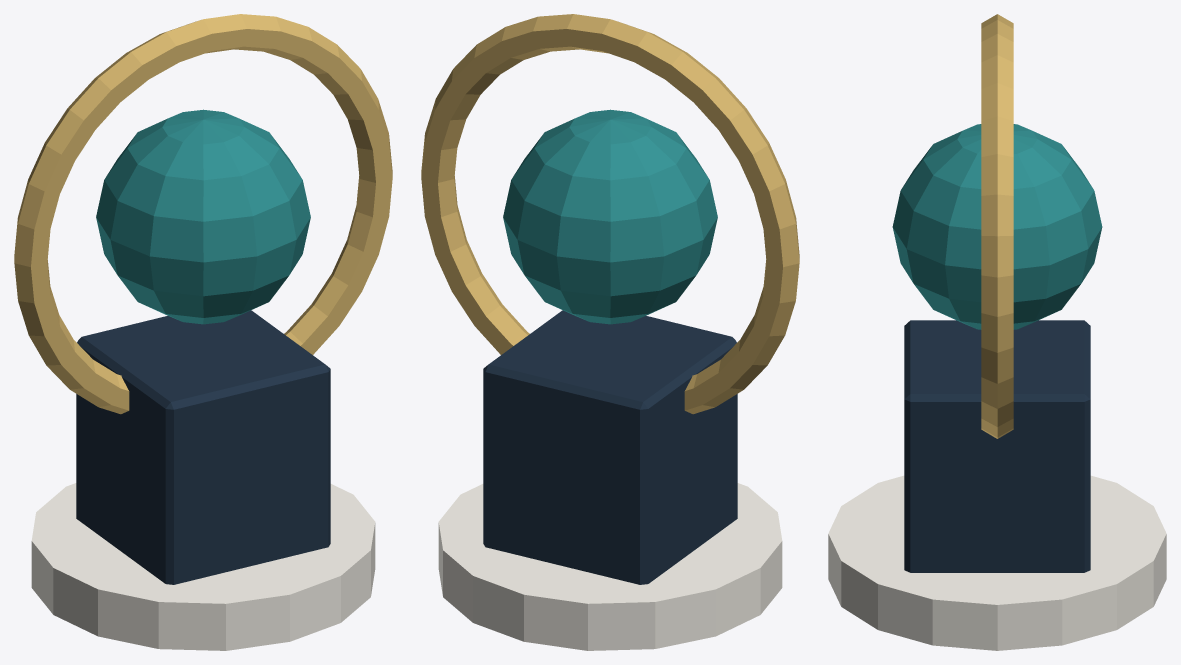
Rendered from SM_Sculpture.obj.
3 renders of one model, left to right at view 1: azimuth 30°, elevation 25°; view 2: azimuth 150°, elevation 25°; view 3: azimuth 270°, elevation 25°, orthographic. The views are drawn at different scales.
Visible parts, largest first — view 1: SM_Sculpture; view 2: SM_Sculpture; view 3: SM_Sculpture.
Part boxes in pixels (left/top/right/bottom): SM_Sculpture: left=14, top=14, right=392, bottom=650; SM_Sculpture: left=421, top=14, right=799, bottom=650; SM_Sculpture: left=828, top=14, right=1166, bottom=650.
Size of the model in its own units: 2.52 by 3.56 by 2.
